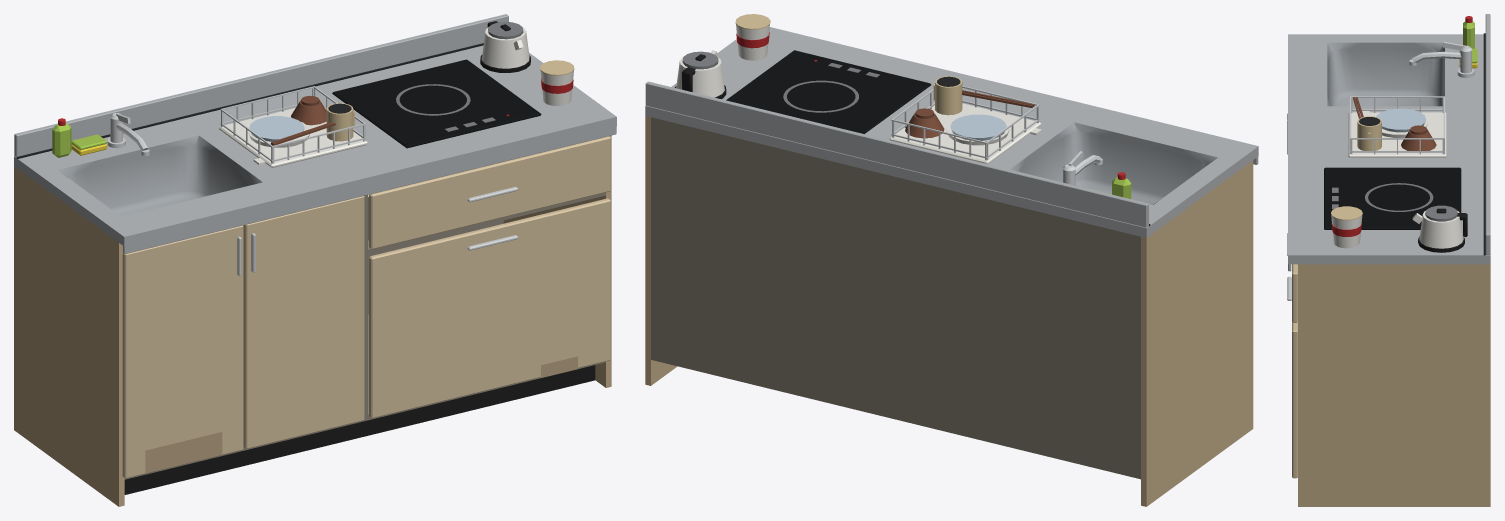
File: kitchen_counter.glb
3 views of the same model, side by side, from view 1: azimuth 30°, elevation 25°; view 2: azimuth 150°, elevation 25°; view 3: azimuth 270°, elevation 25° (orthographic). The views are drawn at different scales.
Parts seen in each view (by area): view 1: counter, drawer; view 2: counter; view 3: counter, drawer.
Part boxes in pixels (x1,y1,x2,y2): counter: [14, 14, 616, 506]; drawer: [368, 136, 610, 249]; counter: [645, 14, 1258, 506]; counter: [1287, 14, 1490, 506]; drawer: [1287, 233, 1297, 322].
Bounding box in the file's own units: 1.6 × 0.962 × 0.622.
